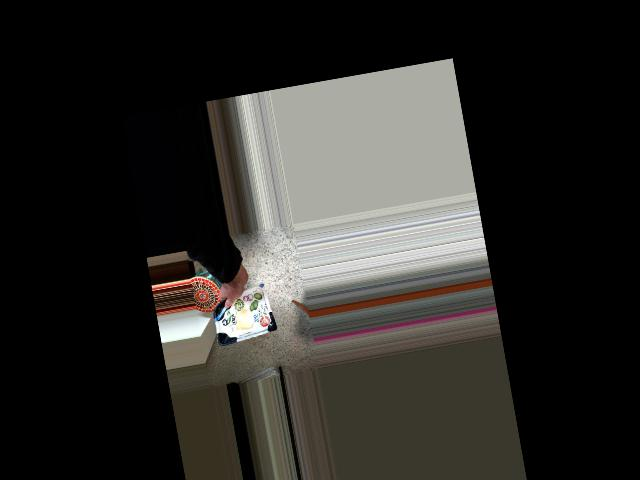cheese: (215, 273, 274, 328)
